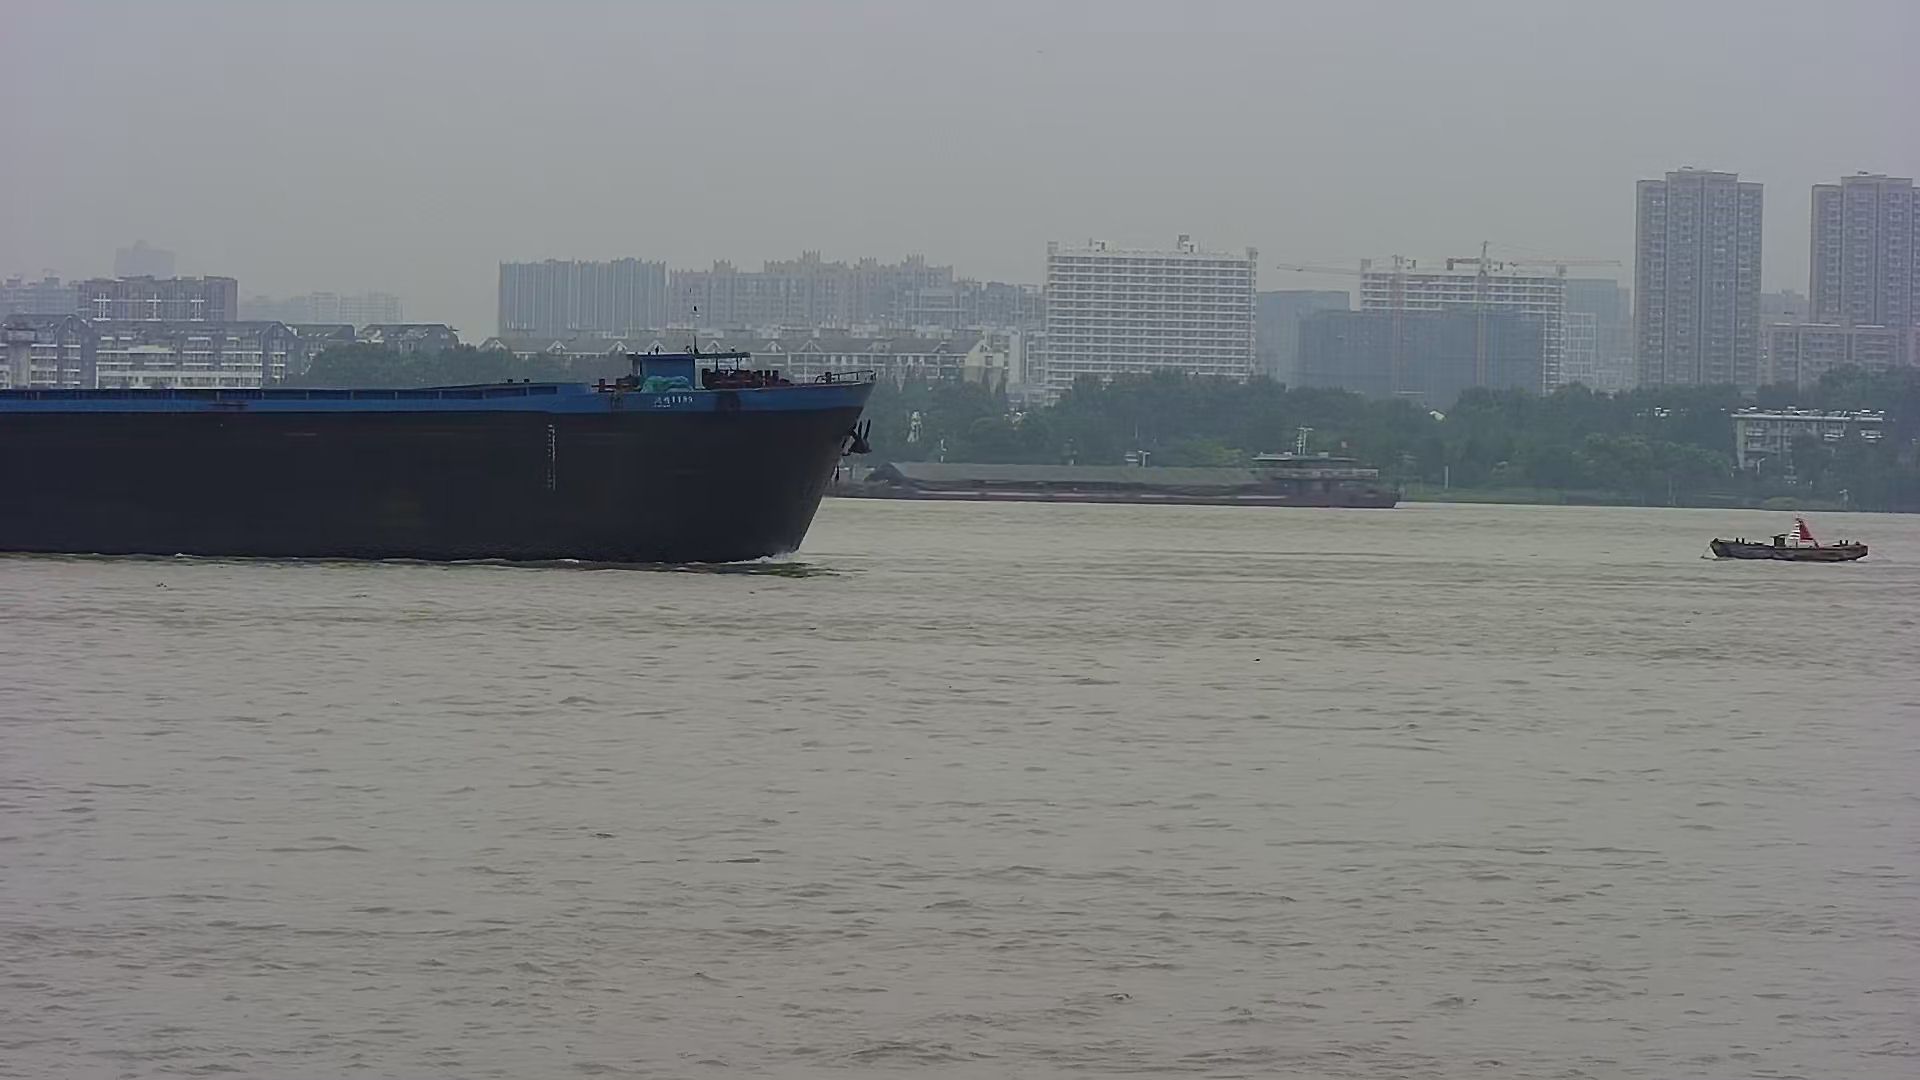boat: (1654, 514, 1898, 574)
ship: (1, 319, 891, 572), (851, 433, 1418, 518)
